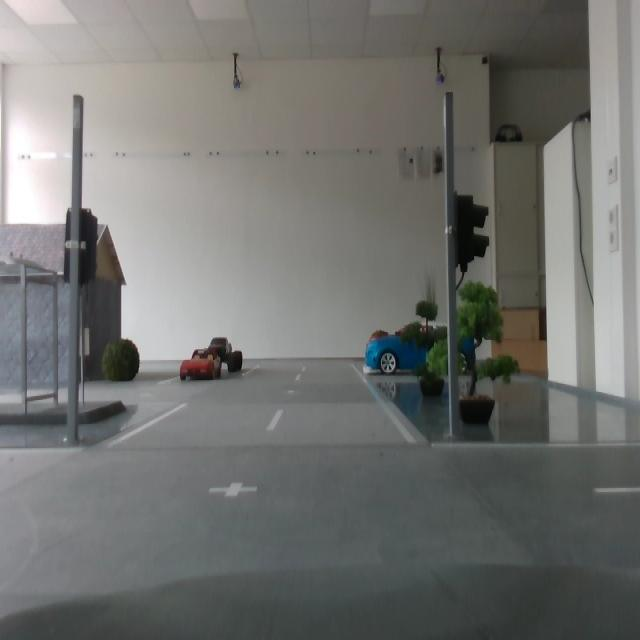car: (364, 321, 479, 376), (180, 347, 225, 383), (203, 337, 245, 374)
potted plant: (426, 280, 522, 421), (399, 300, 448, 397), (101, 338, 143, 385), (419, 265, 437, 362), (369, 331, 393, 361)
traffic light: (65, 202, 99, 289), (454, 192, 490, 273)
